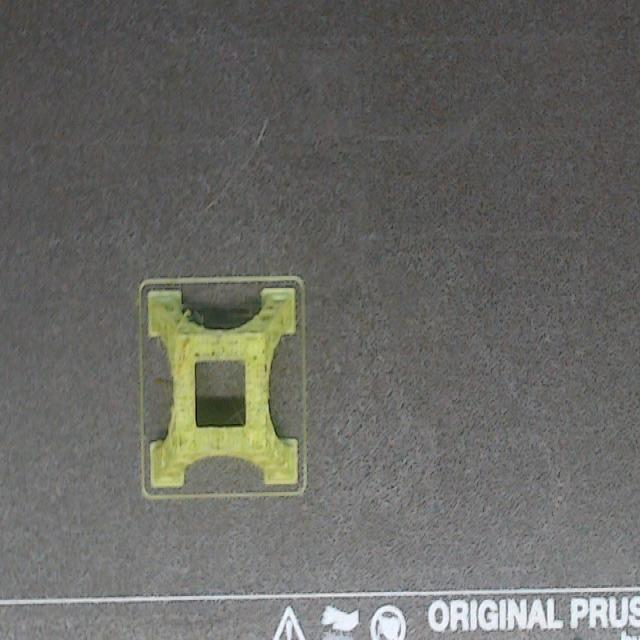mistake: (183, 307, 204, 323)
